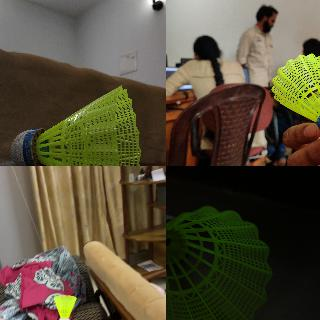shuttlecock: (166, 205, 272, 319), (10, 85, 141, 165), (270, 52, 319, 138), (54, 294, 77, 319)
